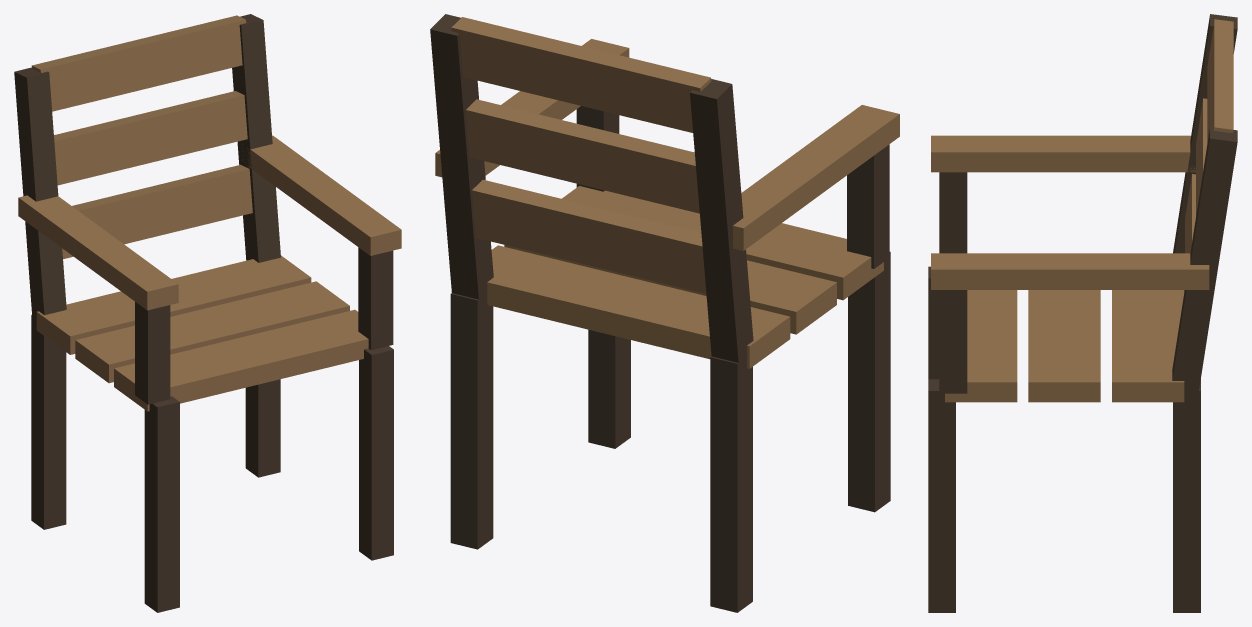
Rendered from porch_chair.glb.
3 renders of one model, left to right at view 1: azimuth 30°, elevation 25°; view 2: azimuth 150°, elevation 25°; view 3: azimuth 270°, elevation 25°, orthographic. The views are drawn at different scales.
Visible parts, largest first — view 1: porch_chair; view 2: porch_chair; view 3: porch_chair.
Boxes of the visible parts, <box> form: porch_chair: <box>14,14,401,612</box>; porch_chair: <box>430,14,899,612</box>; porch_chair: <box>928,14,1237,612</box>.
Size of what is drawn, in the model's own units: 0.57 by 0.947 by 0.556.
Materials: 1 (1 with a texture image).
